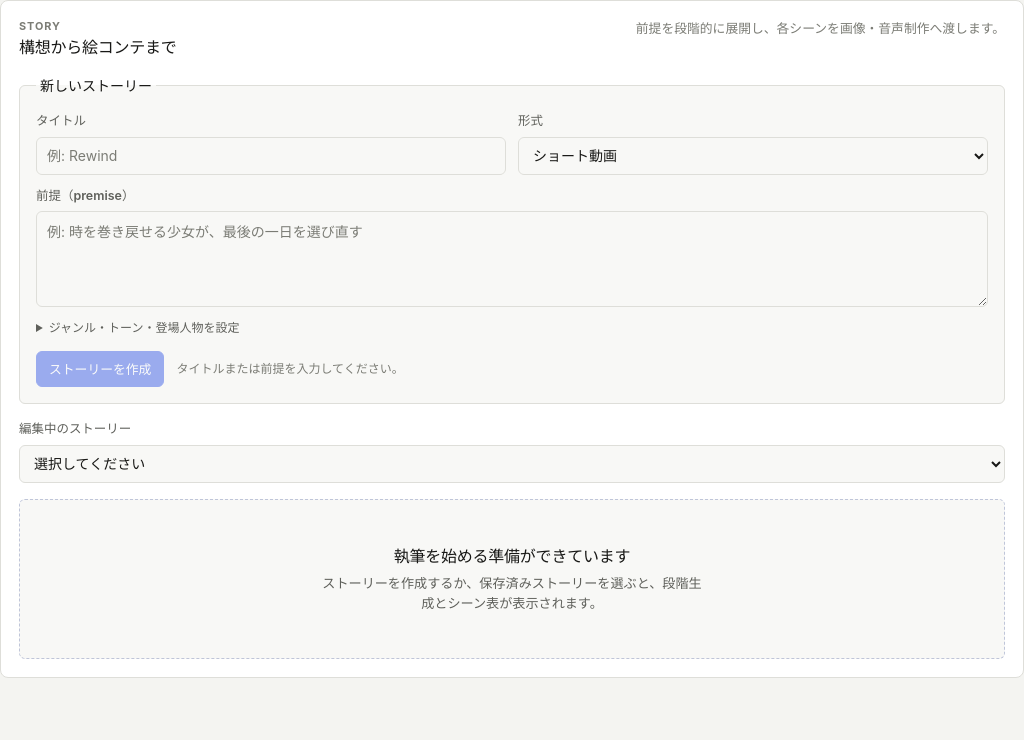
Scenario: StoryPanel › disables stages whose input has not been written yet
Select "Rewind — 0 scenes" in the dropdown labelled "編集中のストーリー" at [512, 464], box [19, 445, 1005, 483]
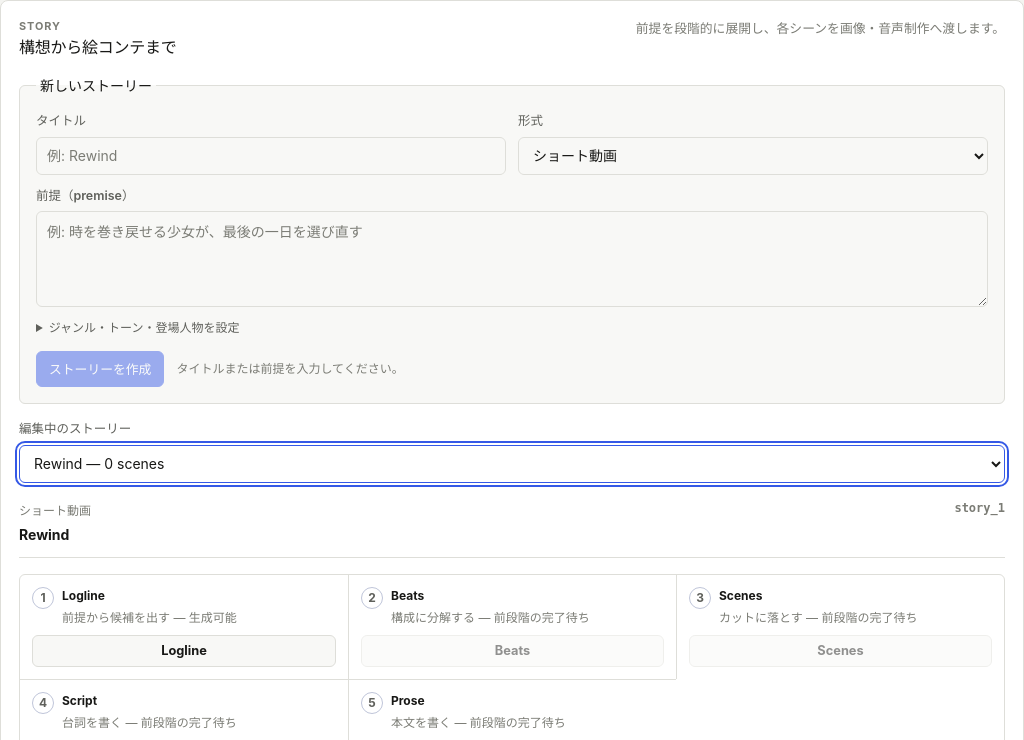
Expected: the button "Logline" is enabled, [32, 635, 336, 667]
Expected: the button "Scenes" is disabled, [689, 635, 992, 667]
